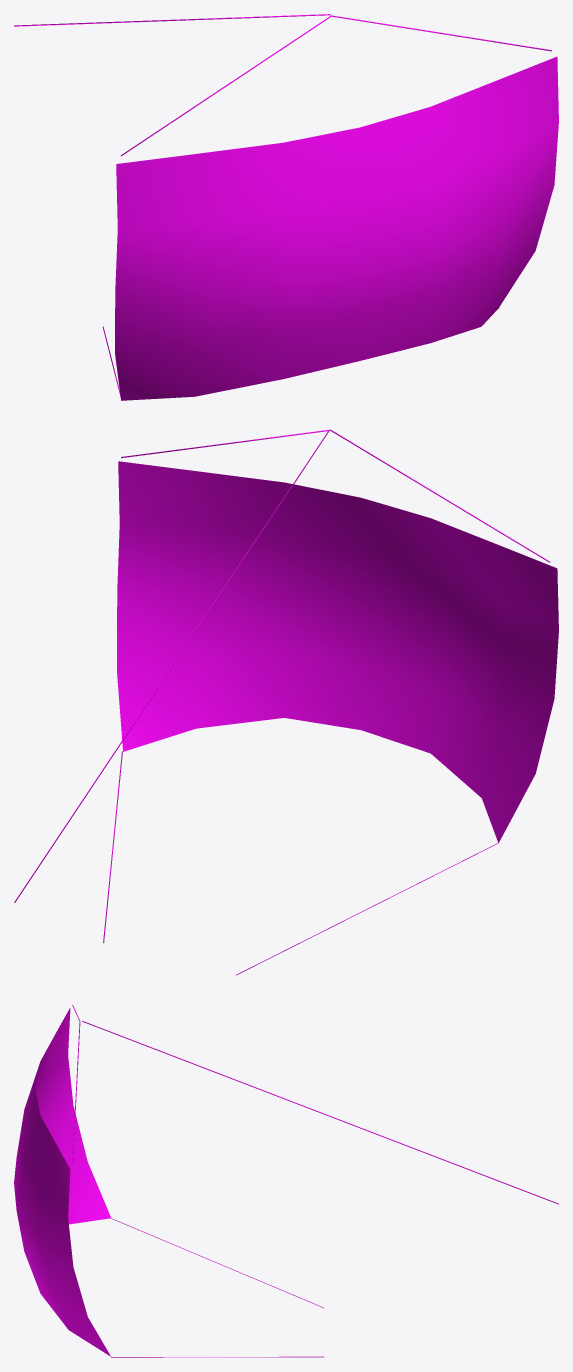
Rendered from rome_trireme_mainsail.glb.
3 views of the same model, one above another, from view 1: azimuth 30°, elevation 25°; view 2: azimuth 150°, elevation 25°; view 3: azimuth 270°, elevation 25° (orthographic). The views are drawn at different scales.
Parts seen in each view (by area): view 1: Cube_002-mesh; view 2: Cube_002-mesh; view 3: Cube_002-mesh.
Part boxes in pixels (bbox=[...]): Cube_002-mesh: bbox=[14, 14, 558, 400]; Cube_002-mesh: bbox=[14, 429, 558, 975]; Cube_002-mesh: bbox=[14, 1005, 558, 1357].
Size of the model in its own units: 18.62 by 16.68 by 26.4.
